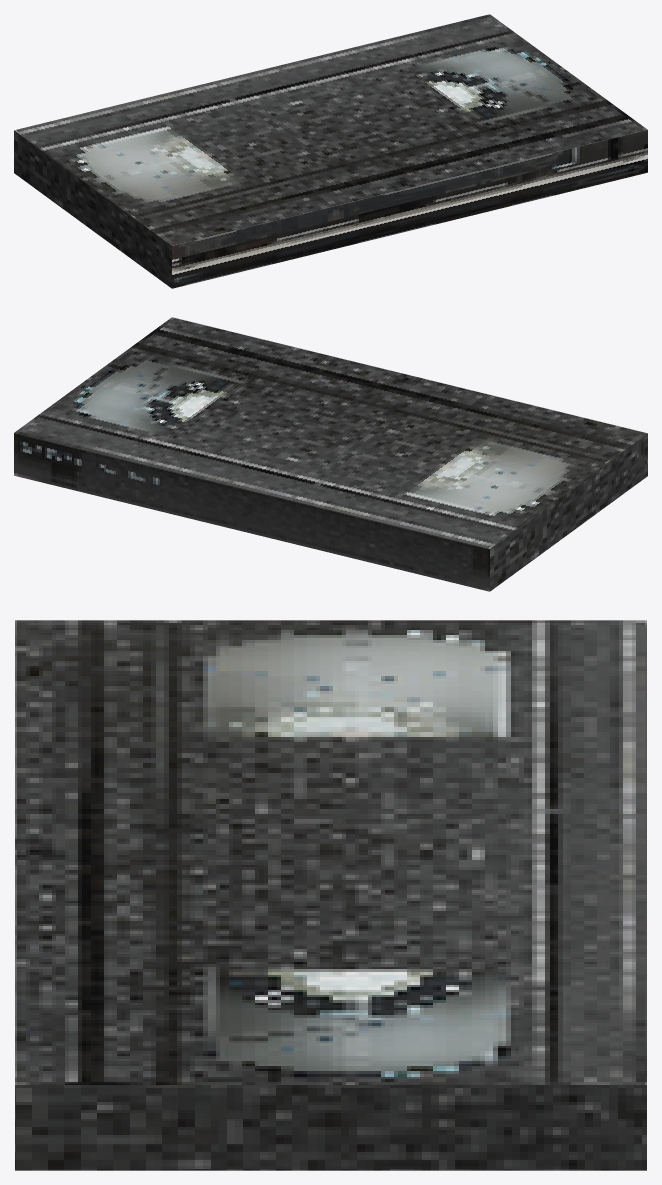
Rendered from psx_-_vhs_tape.glb.
3 renders of one model, top to bottom at view 1: azimuth 30°, elevation 25°; view 2: azimuth 150°, elevation 25°; view 3: azimuth 270°, elevation 25°, orthographic. The views are drawn at different scales.
Parts seen in each view (by area): view 1: vhs_tape; view 2: vhs_tape; view 3: vhs_tape.
Boxes of the visible parts, box(x1,y1,x2,y2) form: vhs_tape: box(14, 14, 647, 288); vhs_tape: box(14, 317, 647, 591); vhs_tape: box(15, 620, 646, 1170).
Size of the model in its own units: 0.1193 by 0.0102 by 0.0686.
Materials: 1 (1 with a texture image).
